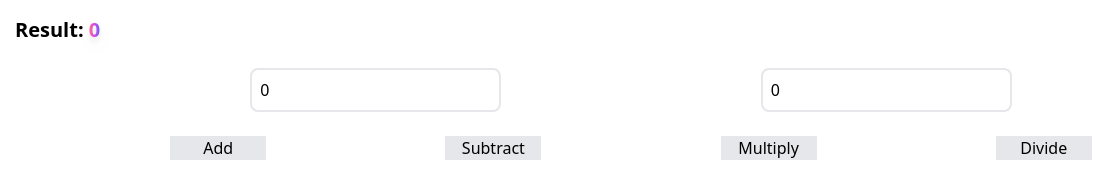
Scenario: multiply numbers
The image size is (1109, 177).
Replace the text in the number field with test id "num1" with "3" at (376, 90), box [250,68,501,112]
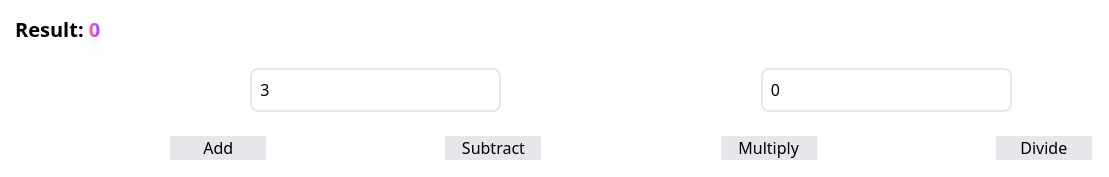
Replace the text in the number field with test id "num2" with "5" at (886, 90), box [761,68,1012,112]
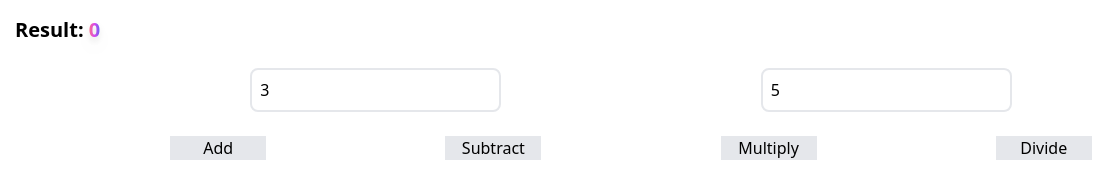
Click the button with test id "multiply" at (769, 148), box [721,136,817,160]
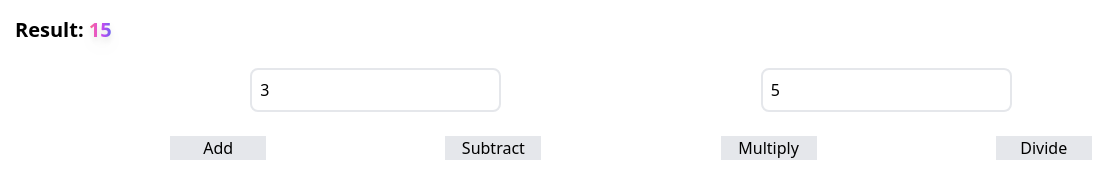
Check: the element with test id "result" shows "15", box [89,16,112,43]
